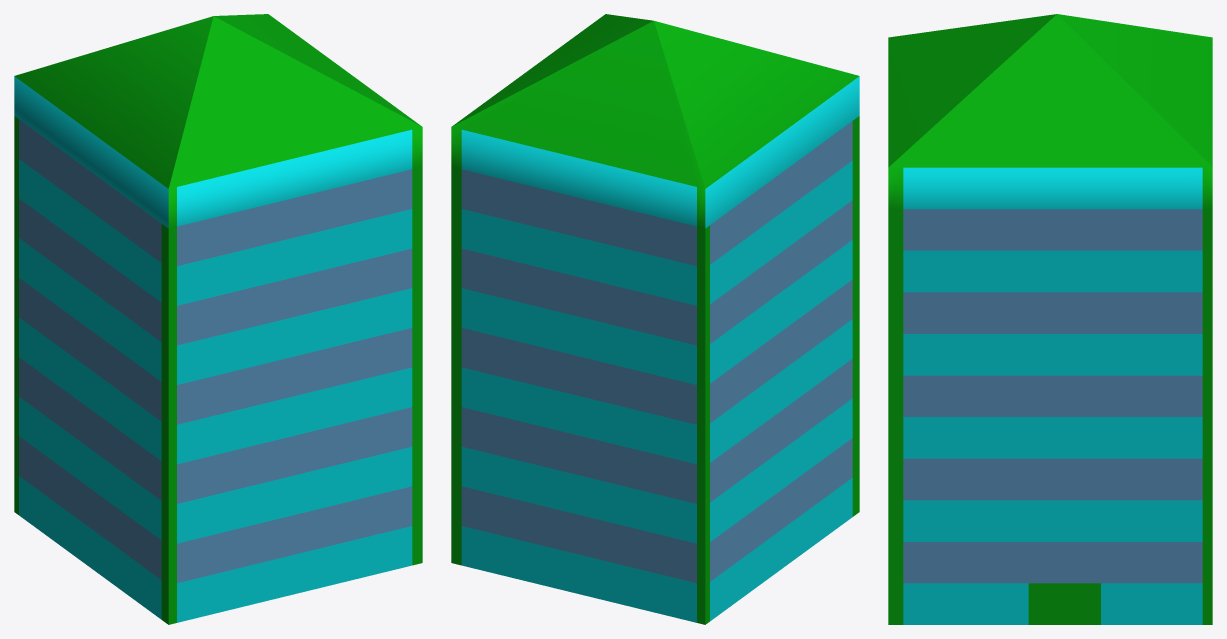
The model's file is building 1 green.fbx.
The picture shows the model from 3 angles, left to right: view 1: azimuth 30°, elevation 25°; view 2: azimuth 150°, elevation 25°; view 3: azimuth 270°, elevation 25°; orthographic projection. The views are drawn at different scales.
Visible parts, largest first — view 1: pCube1; view 2: pCube1; view 3: pCube1.
Boxes of the visible parts, box(x1,y1,x2,y2) form: pCube1: box(14, 14, 422, 624); pCube1: box(451, 14, 859, 624); pCube1: box(888, 14, 1212, 624).
Size of the model in its own units: 11.82 by 23.09 by 12.44.
